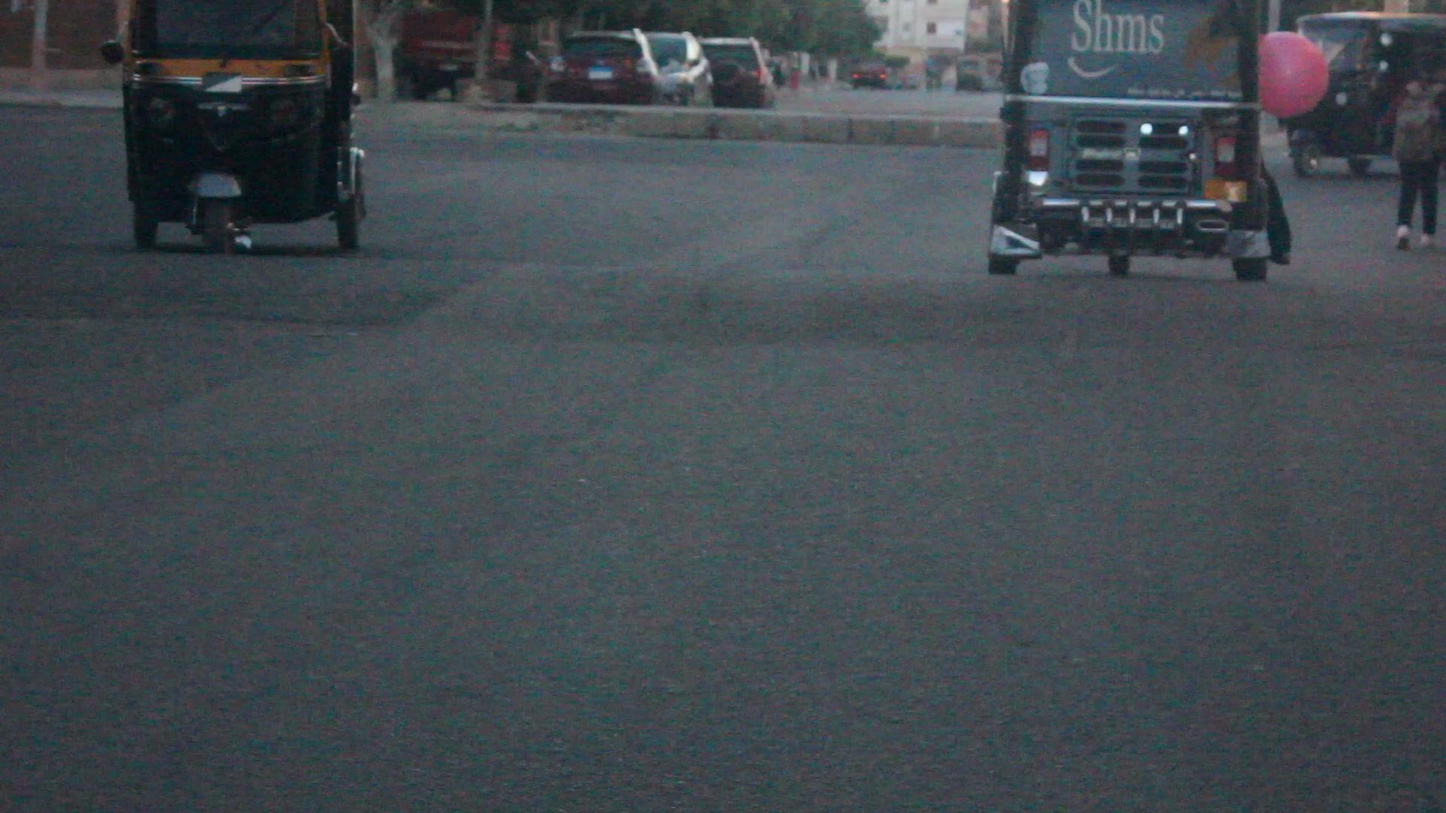Bump: (0, 244, 1445, 353)
